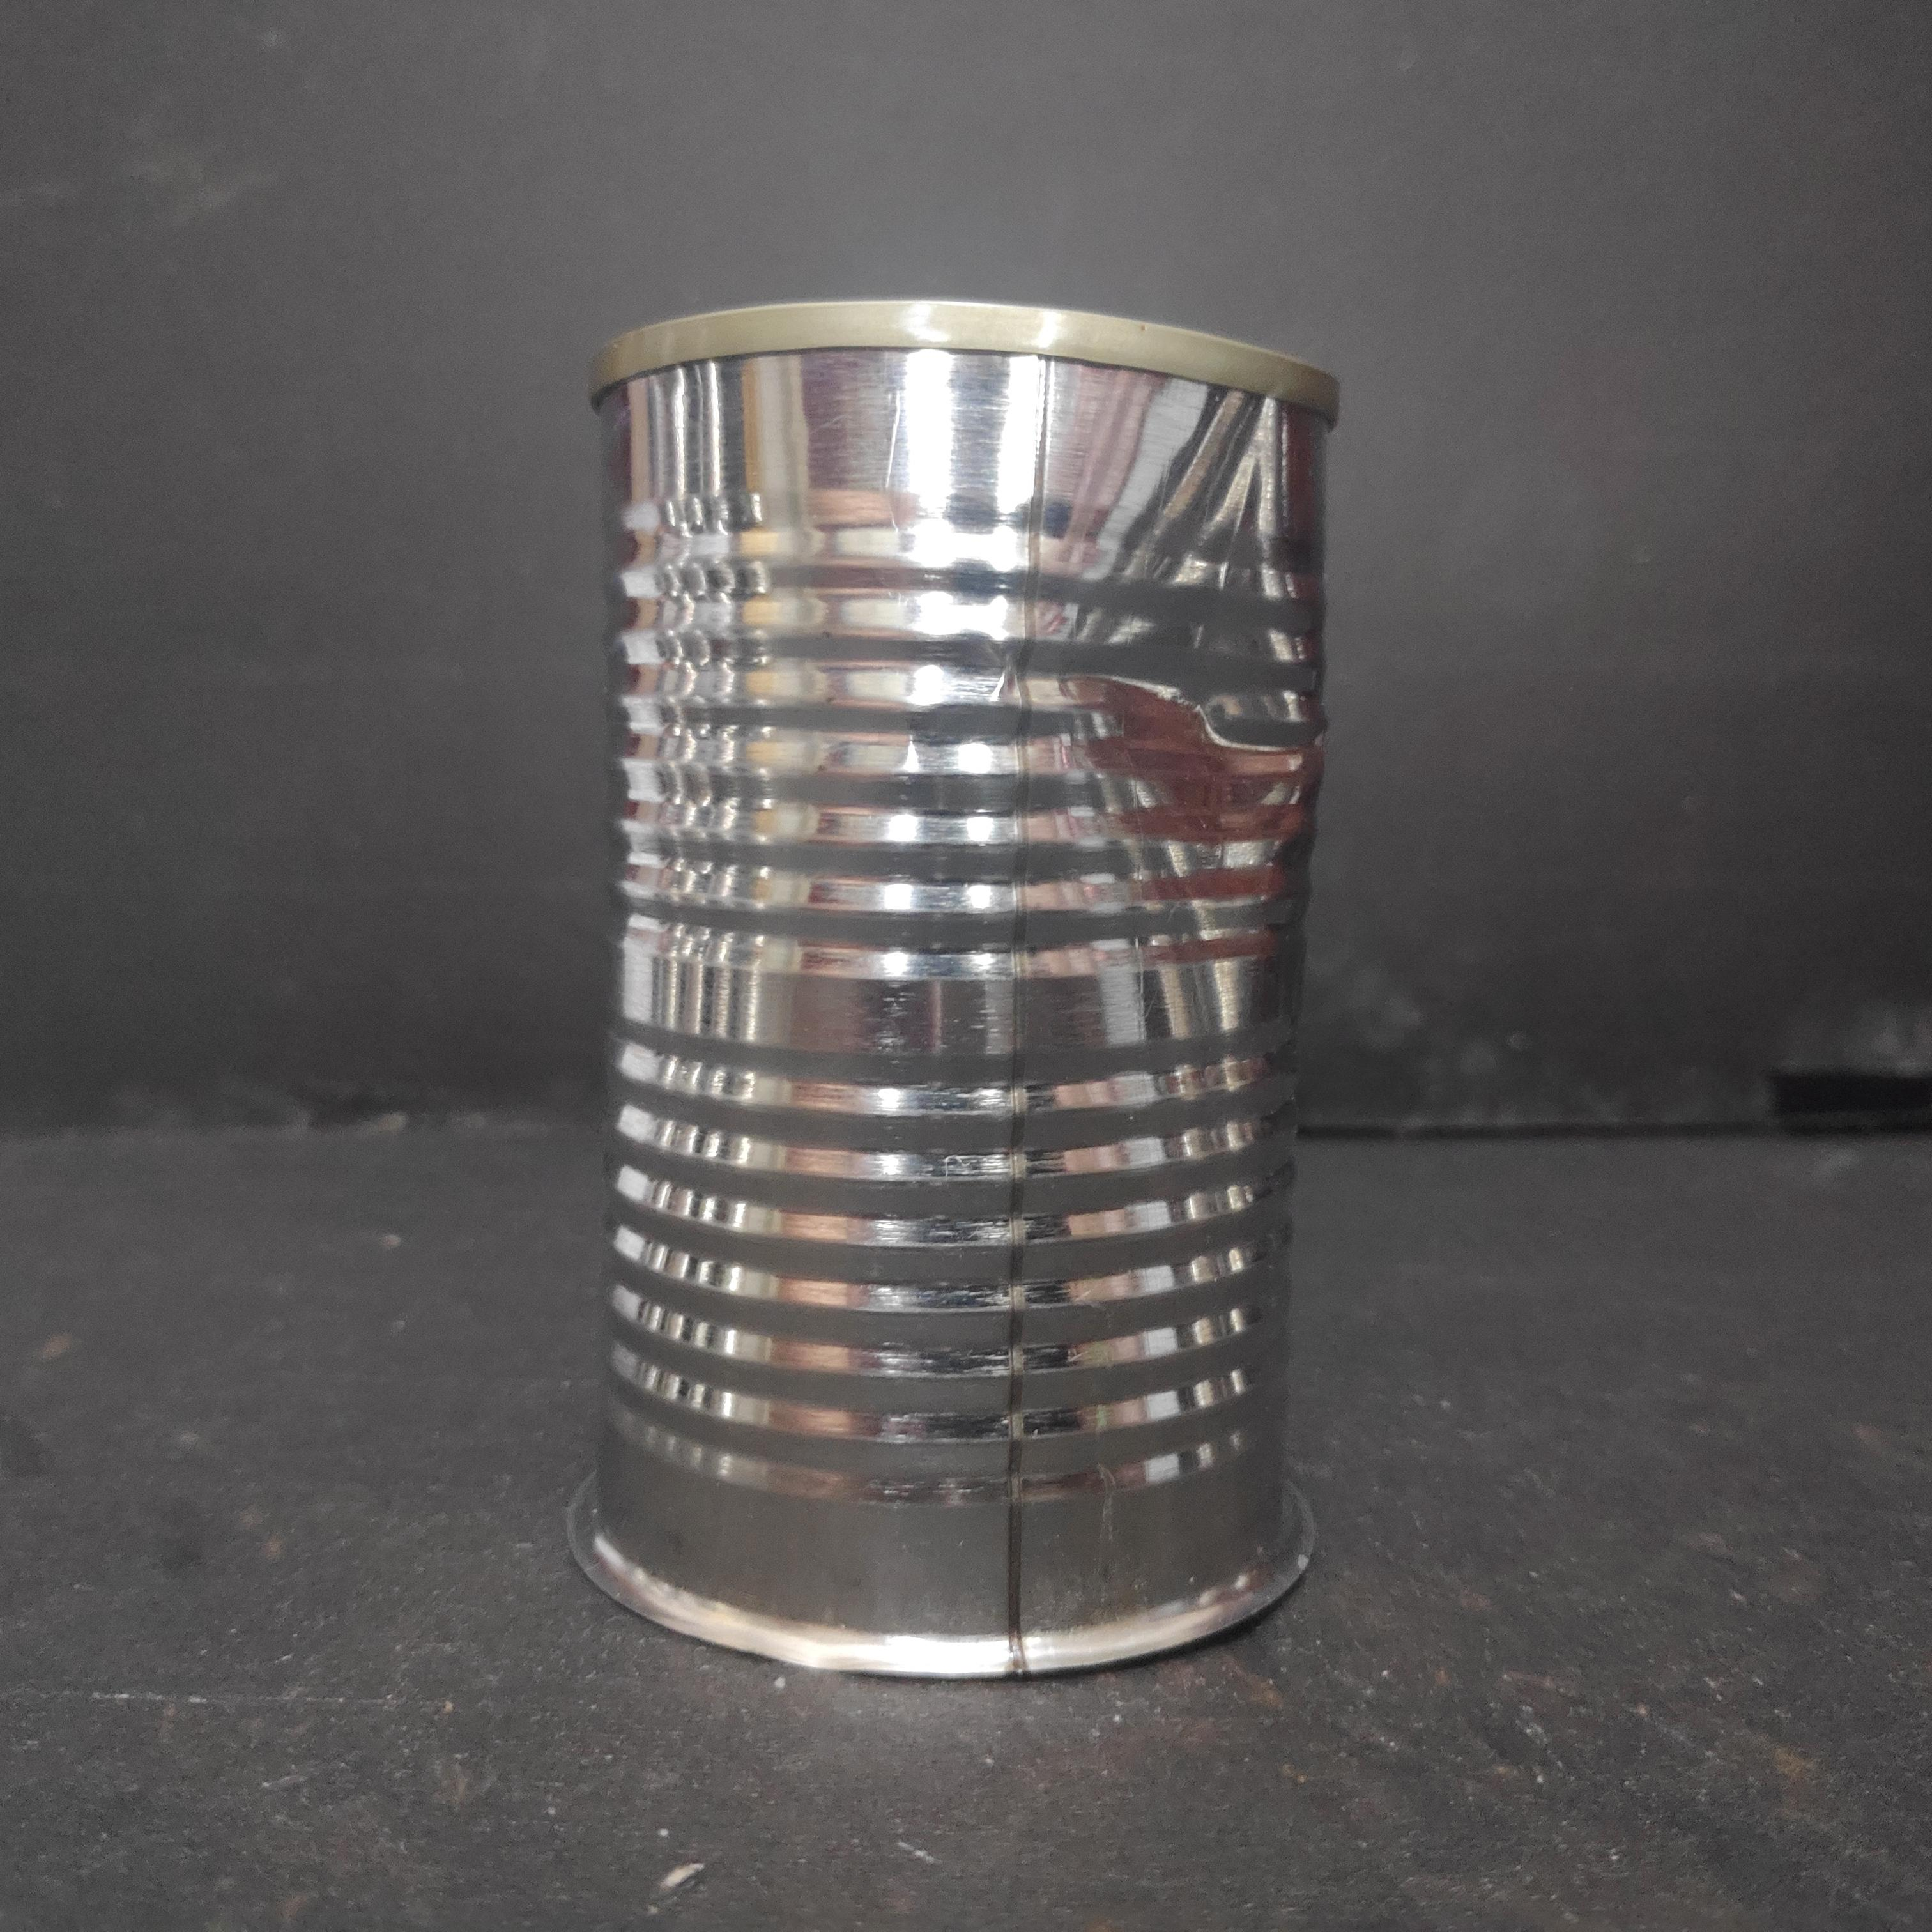Minor Defect: (566, 295, 1355, 1690)
